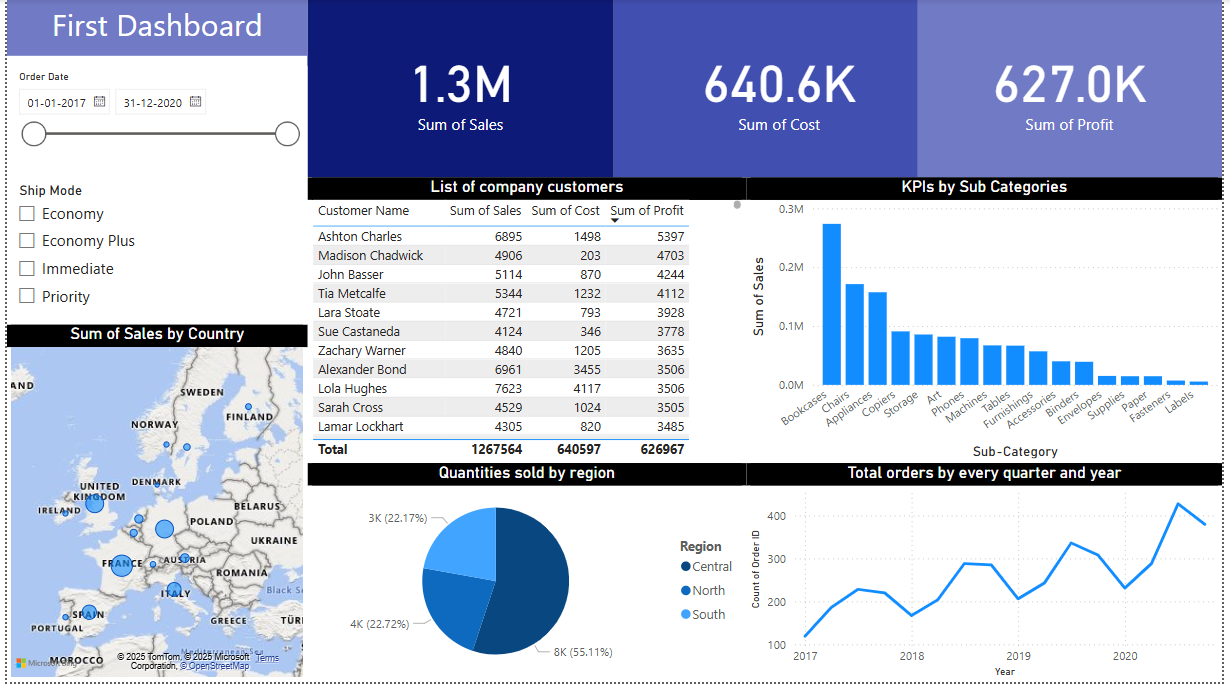

Layout of this report page (visuals, bound fields, positions):
{"tool":"powerbi","page":{"name":"Page 1","canvas":[1280,720],"ordinal":0},"visuals":[{"type":"card","fields":{"Values":["List of Orders.Sales"]},"box":[316.6,0,322.9,188.1],"z":0},{"type":"card","fields":{"Values":["List of Orders.Cost"]},"box":[639.4,0,349,188.1],"z":1000},{"type":"card","title":"s","fields":{"Values":["List of Orders.Profit"]},"box":[959.2,0,321.3,188.1],"z":2000},{"type":"tableEx","title":"List of company customers","fields":{"Values":["List of Orders.Customer Name","List of Orders.Sales","List of Orders.Cost","List of Orders.Profit"]},"box":[316.6,188.1,462.3,300.9],"z":3000},{"type":"clusteredColumnChart","title":"KPIs by Sub Categories","fields":{"Y":["List of Orders.Sales"],"Category":["List of Orders.Sub-Category"]},"box":[778.9,188.1,501.5,300.9],"z":4000},{"type":"lineChart","title":"Total orders by every quarter and year","fields":{"Y":["List of Orders.Order ID"],"Category":["List of Orders.Order Date.Variation.Date Hierarchy.Year","List of Orders.Order Date.Variation.Date Hierarchy.Quarter"]},"box":[778.9,489,501.5,230.4],"z":5000},{"type":"pieChart","title":"Quantities sold by region","fields":{"Y":["List of Orders.Quantity"],"Category":["List of Orders.Region"]},"box":[316.6,489,462.3,230.4],"z":6000},{"type":"textbox","box":[0,0,316.6,59.6],"z":7000},{"type":"slicer","fields":{"Values":["List of Orders.Ship Mode"]},"box":[0,188.1,316.6,155.2],"z":8000},{"type":"slicer","fields":{"Values":["List of Orders.Order Date"]},"box":[0,70.5,316.6,117.5],"z":9000},{"type":"map","fields":{"Category":["List of Orders.Country"],"Size":["List of Orders.Sales"]},"box":[0,343.2,316.6,376.1],"z":10000}]}

Visuals, with their boxes in screenshot pixels (x1, y1, x2, y2), scaled from the page's 1280x720 canvas onto the 1230x688 screenshot:
card - List of Orders.Sales: [304, 0, 615, 180]
card - List of Orders.Cost: [614, 0, 950, 180]
"s" card: [922, 0, 1229, 180]
"List of company customers" tableEx: [304, 180, 748, 467]
"KPIs by Sub Categories" clusteredColumnChart: [748, 180, 1229, 467]
"Total orders by every quarter and year" lineChart: [748, 467, 1229, 687]
"Quantities sold by region" pieChart: [304, 467, 748, 687]
textbox: [0, 0, 304, 57]
slicer - List of Orders.Ship Mode: [0, 180, 304, 328]
slicer - List of Orders.Order Date: [0, 67, 304, 180]
map - List of Orders.Country x List of Orders.Sales: [0, 328, 304, 687]
